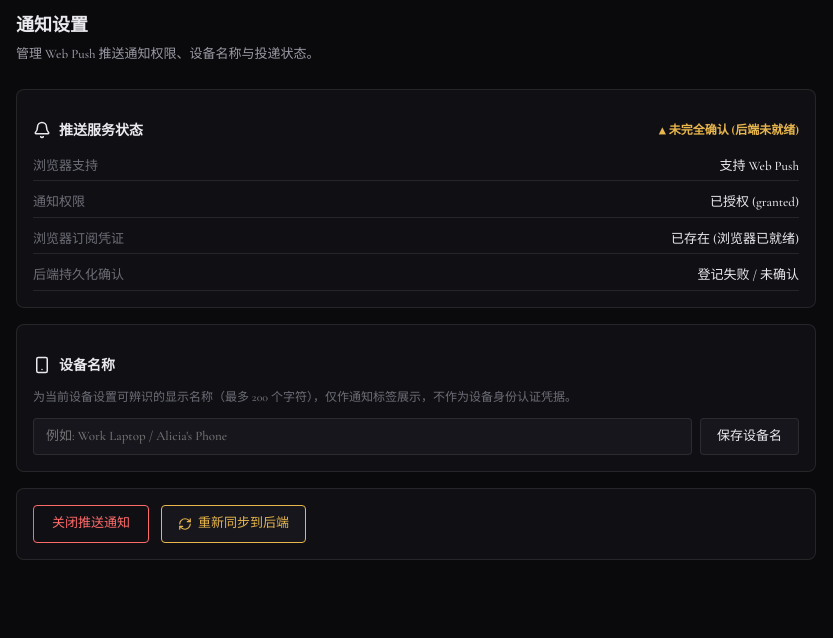
Scenario: P2D D-2 Section A: Settings Panel & Subscription Truth › handles backend unsubscribe success (204) with browser cleanup failure gracefully
This screenshot has width=833, height=638.
Click the button "关闭推送通知" at (91, 524), box [33,505,149,542]
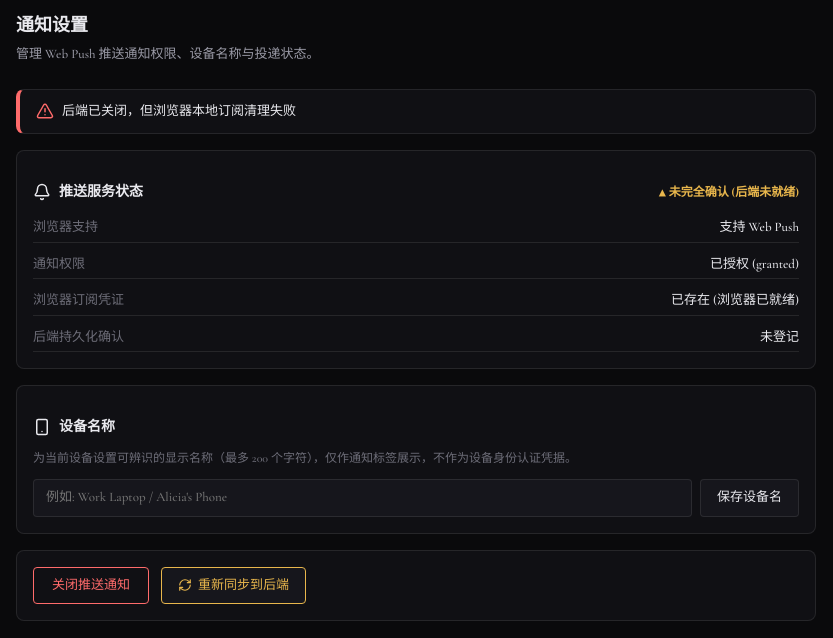
Expected: the text "后端已关闭，但浏览器本地订阅清理失败" is shown, [62,102,296,121]
